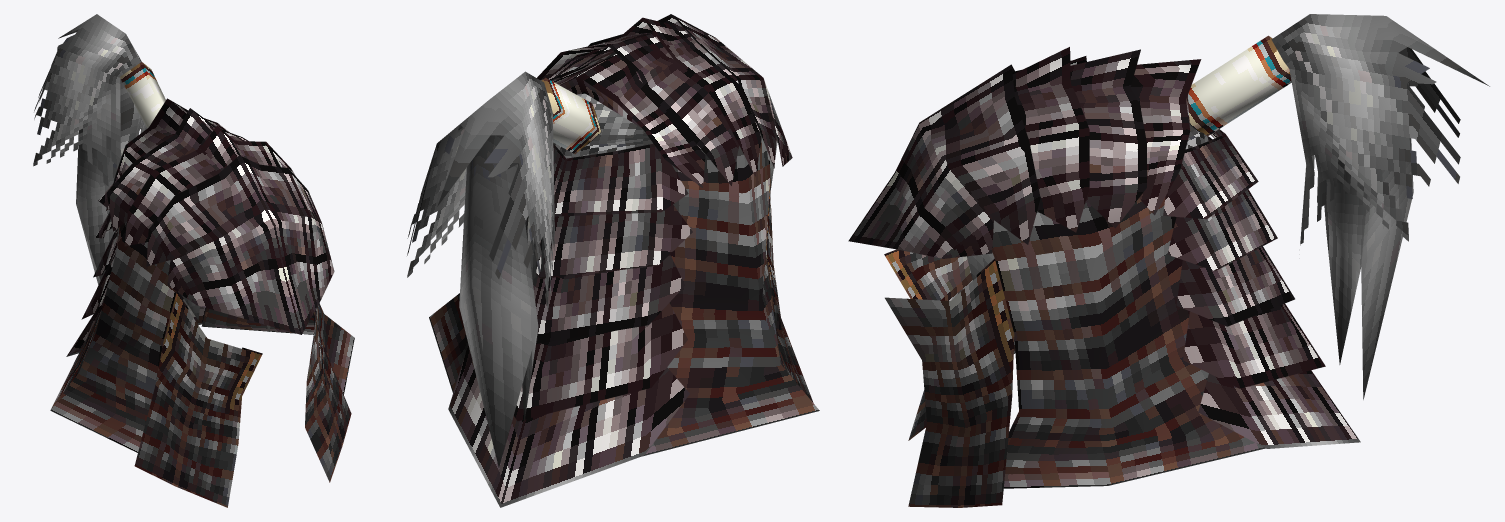
The model's file is m_hair013.glb.
3 views of the same model, side by side, from view 1: azimuth 30°, elevation 25°; view 2: azimuth 150°, elevation 25°; view 3: azimuth 270°, elevation 25° (orthographic). The views are drawn at different scales.
Bounding box in the file's own units: 30.01 × 32.94 × 41.7.
1 material, 1 textured.
